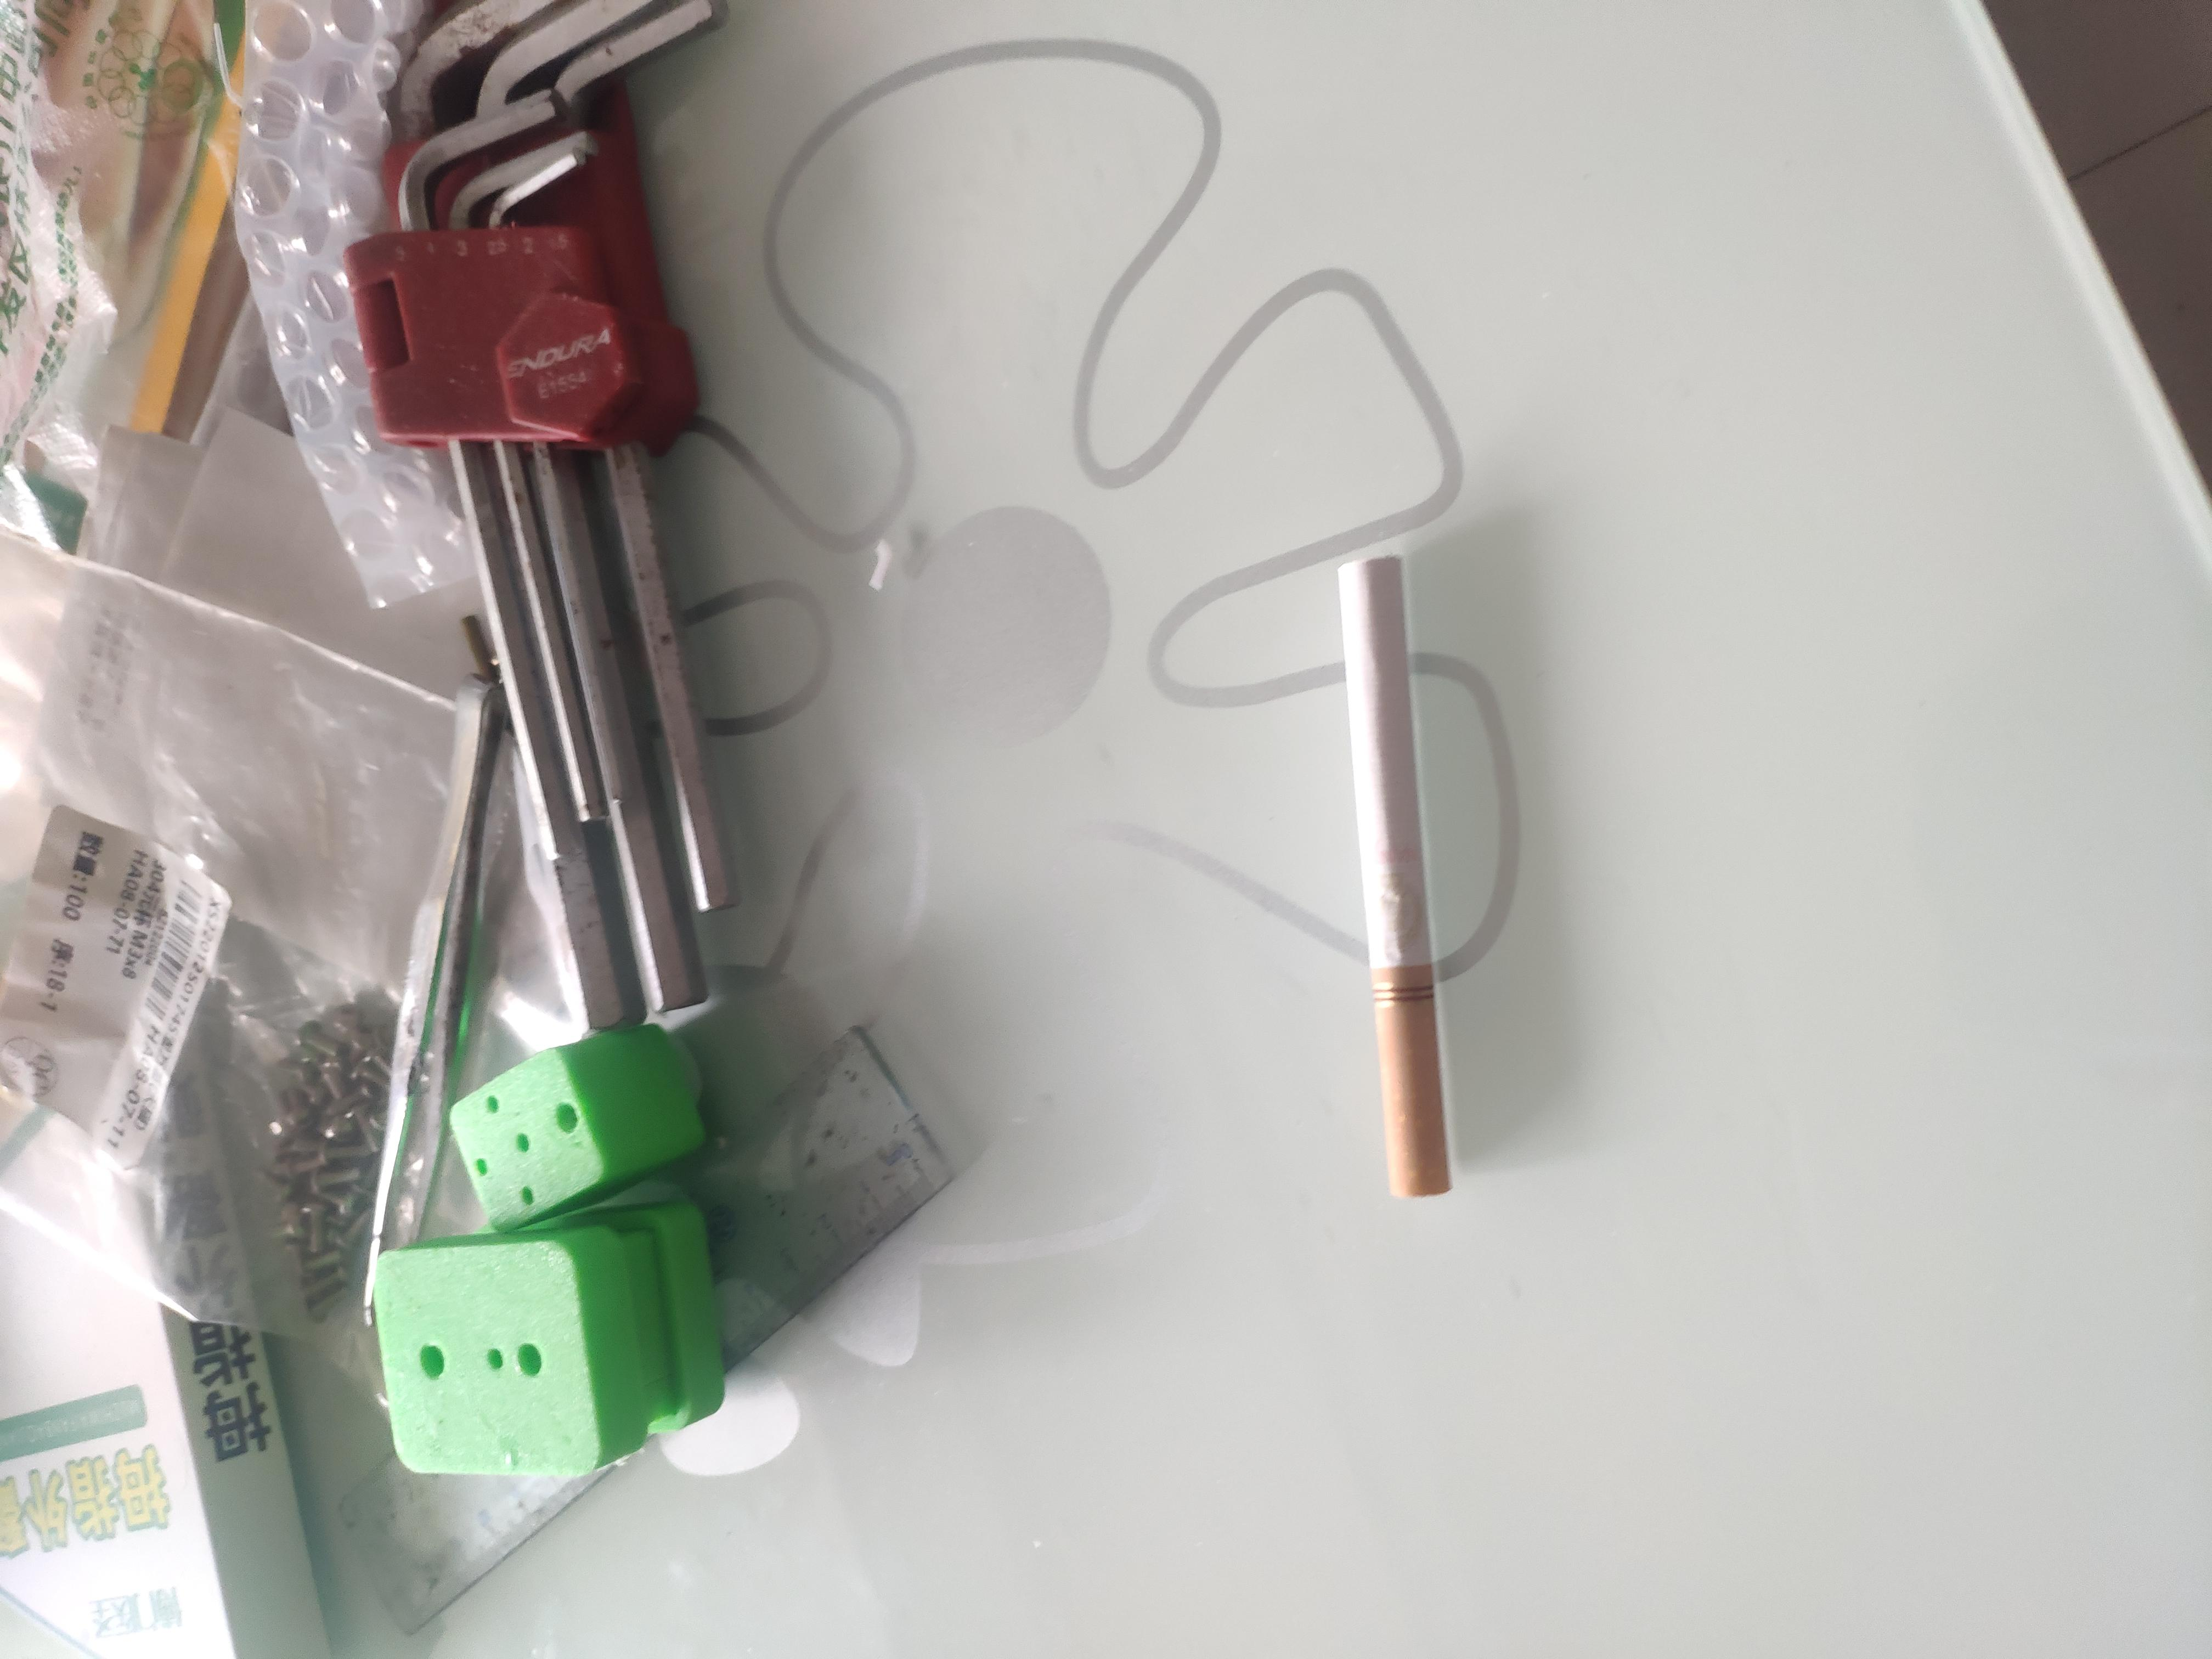smoke: (608, 1004, 1479, 1089)
